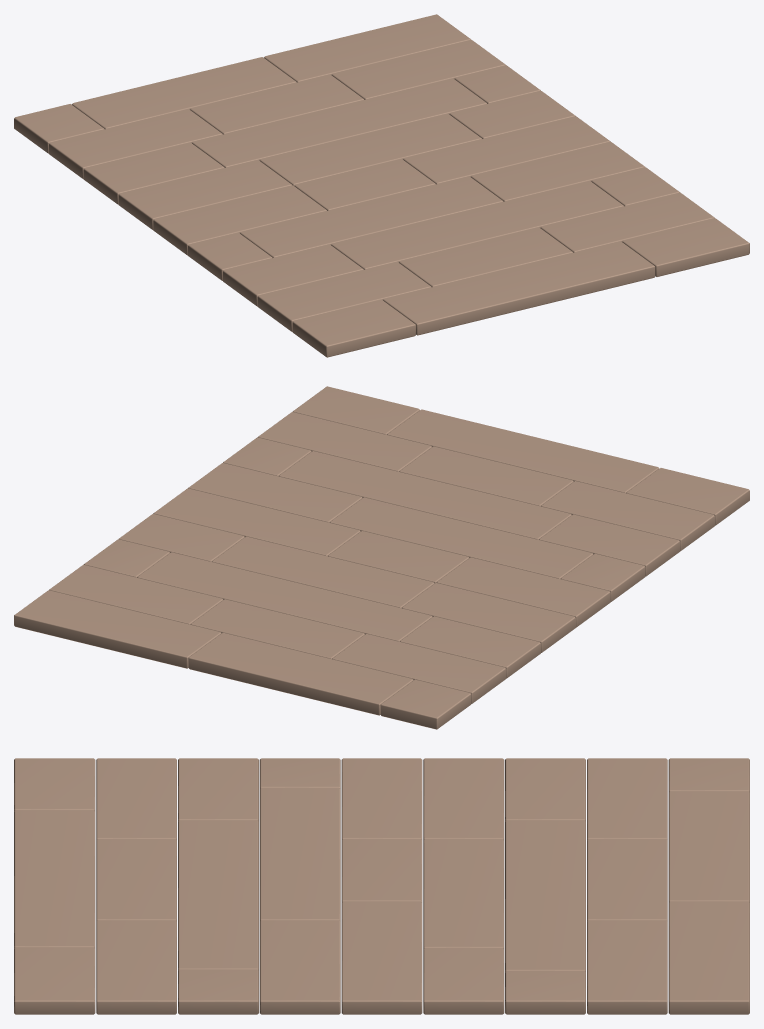
File: Floor_15.glb
3 views of the same model, one above another, from view 1: azimuth 30°, elevation 25°; view 2: azimuth 150°, elevation 25°; view 3: azimuth 270°, elevation 25° (orthographic). The views are drawn at different scales.
Visible parts, largest first — view 1: Floor_15; view 2: Floor_15; view 3: Floor_15.
Boxes of the visible parts, x1,y1,x2,y2 form: Floor_15: (14,14,749,357); Floor_15: (14,386,749,729); Floor_15: (14,758,749,1014).
Bounding box in the file's own units: 3.6 × 0.1 × 4.6.
1 material, 1 textured.
